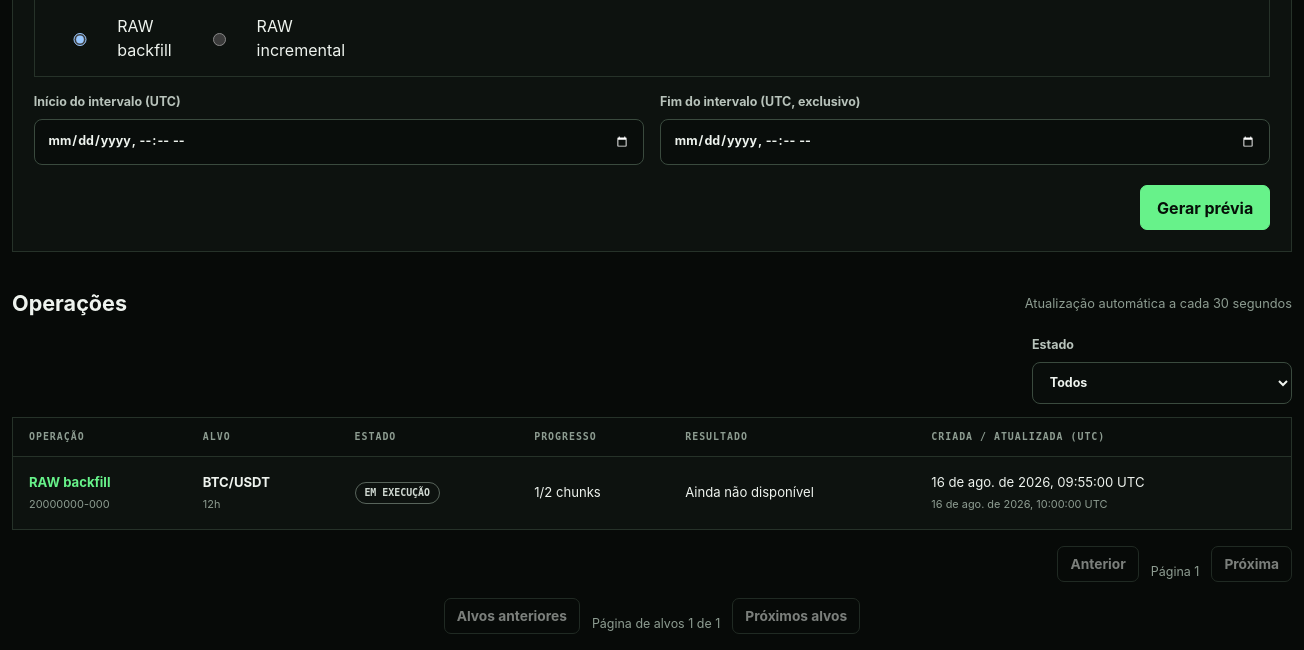
Test case: MarketOperationsPage › rejeita observed_at mais antigo quando record_version é igual
(page scrolled)
Click the button with aria-label "Inspecionar RAW backfill BTC/USDT 12h": [70, 483] box [29, 473, 110, 492]
(page scrolled)
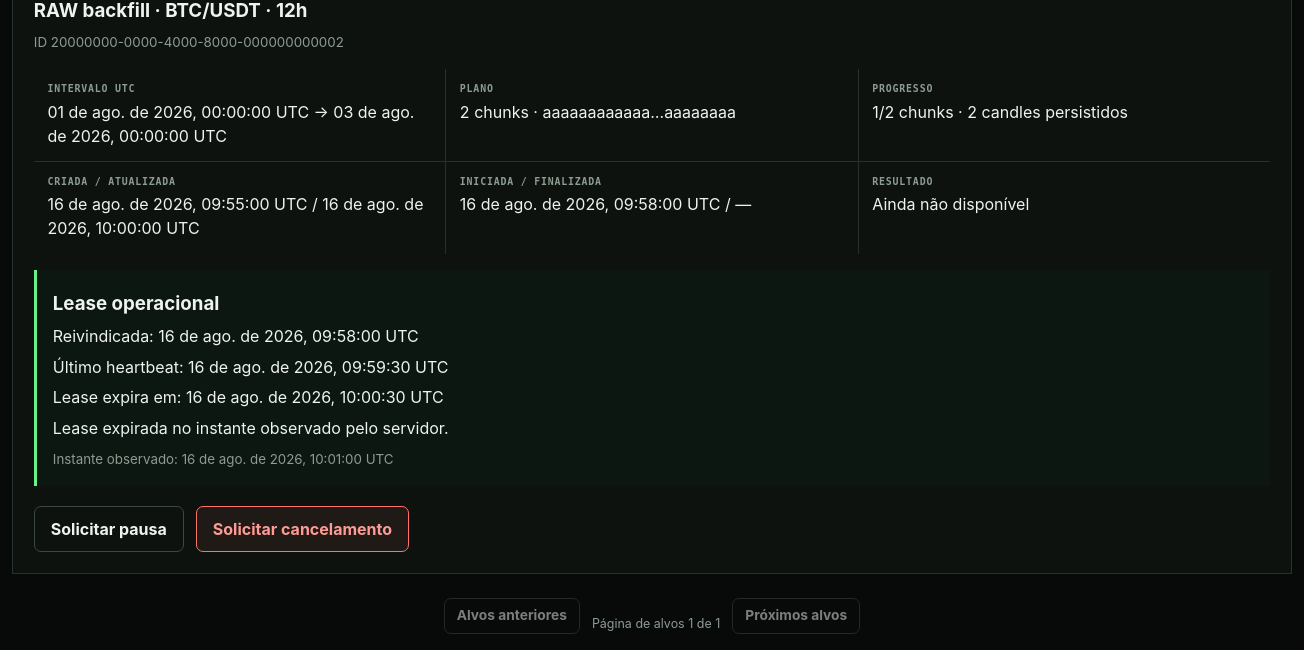
Check: the text "Lease expirada no instante observado pelo servidor." is shown, box [53, 418, 448, 438]
